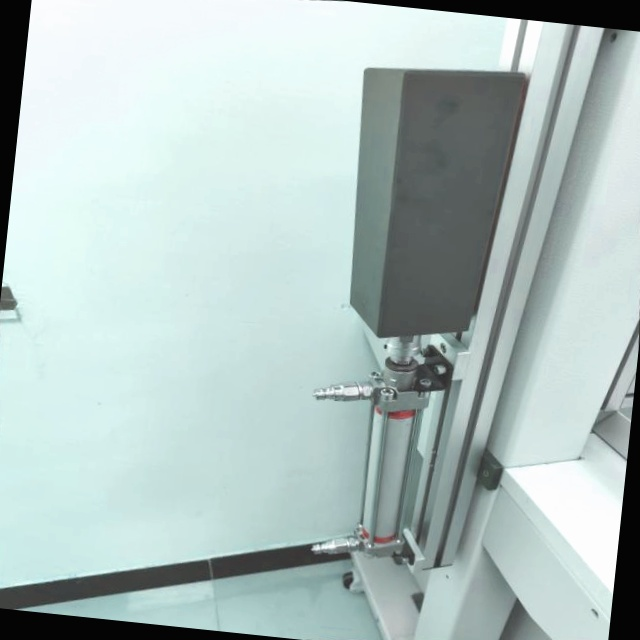load: (266, 44, 580, 589)
